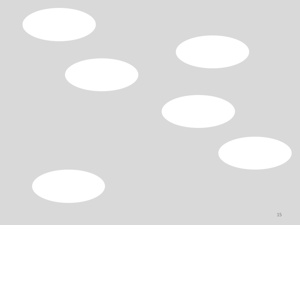round: (58, 54, 143, 92), (174, 32, 254, 71), (157, 91, 238, 129), (28, 166, 111, 203), (19, 5, 99, 43), (214, 135, 294, 172)
